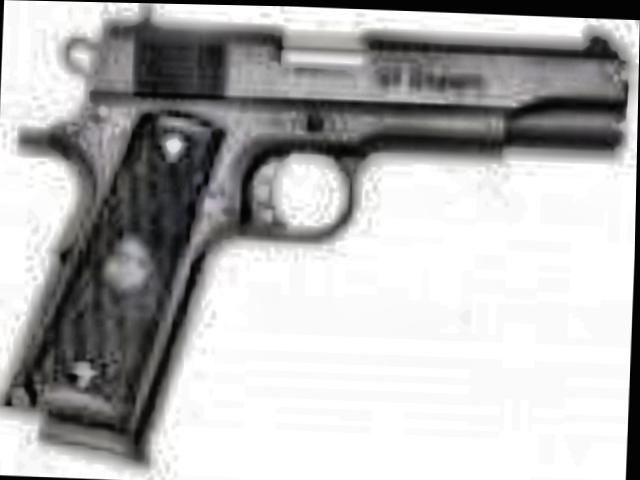pistol: (0, 0, 628, 472)
